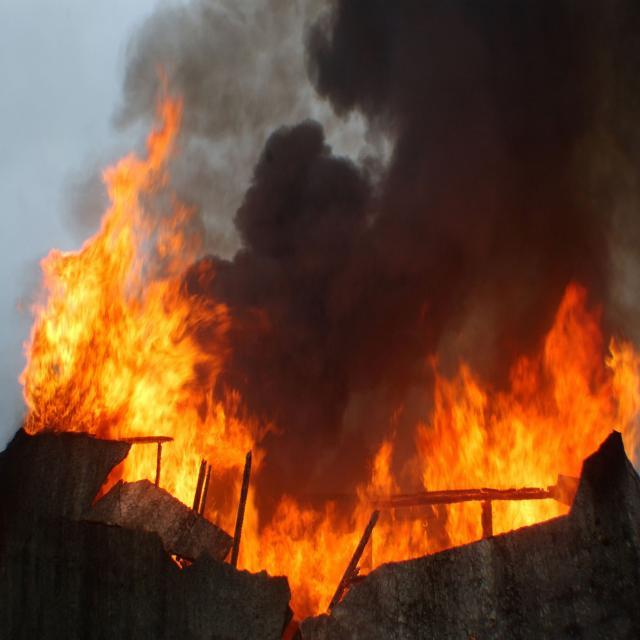Fire: (18, 90, 640, 620)
Smoke: (105, 0, 640, 518)
